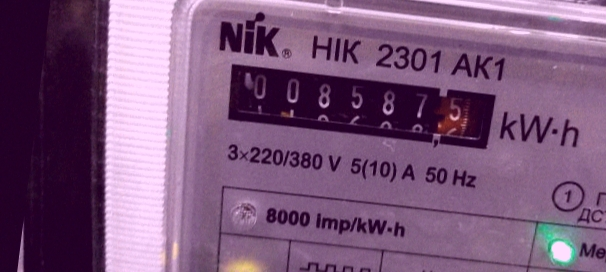0: (280, 75, 301, 105), (247, 70, 267, 101)
5: (443, 94, 464, 125), (344, 82, 364, 112)
7: (407, 89, 428, 121)
8: (376, 86, 396, 118), (312, 80, 331, 110)
screen: (203, 45, 513, 165)
